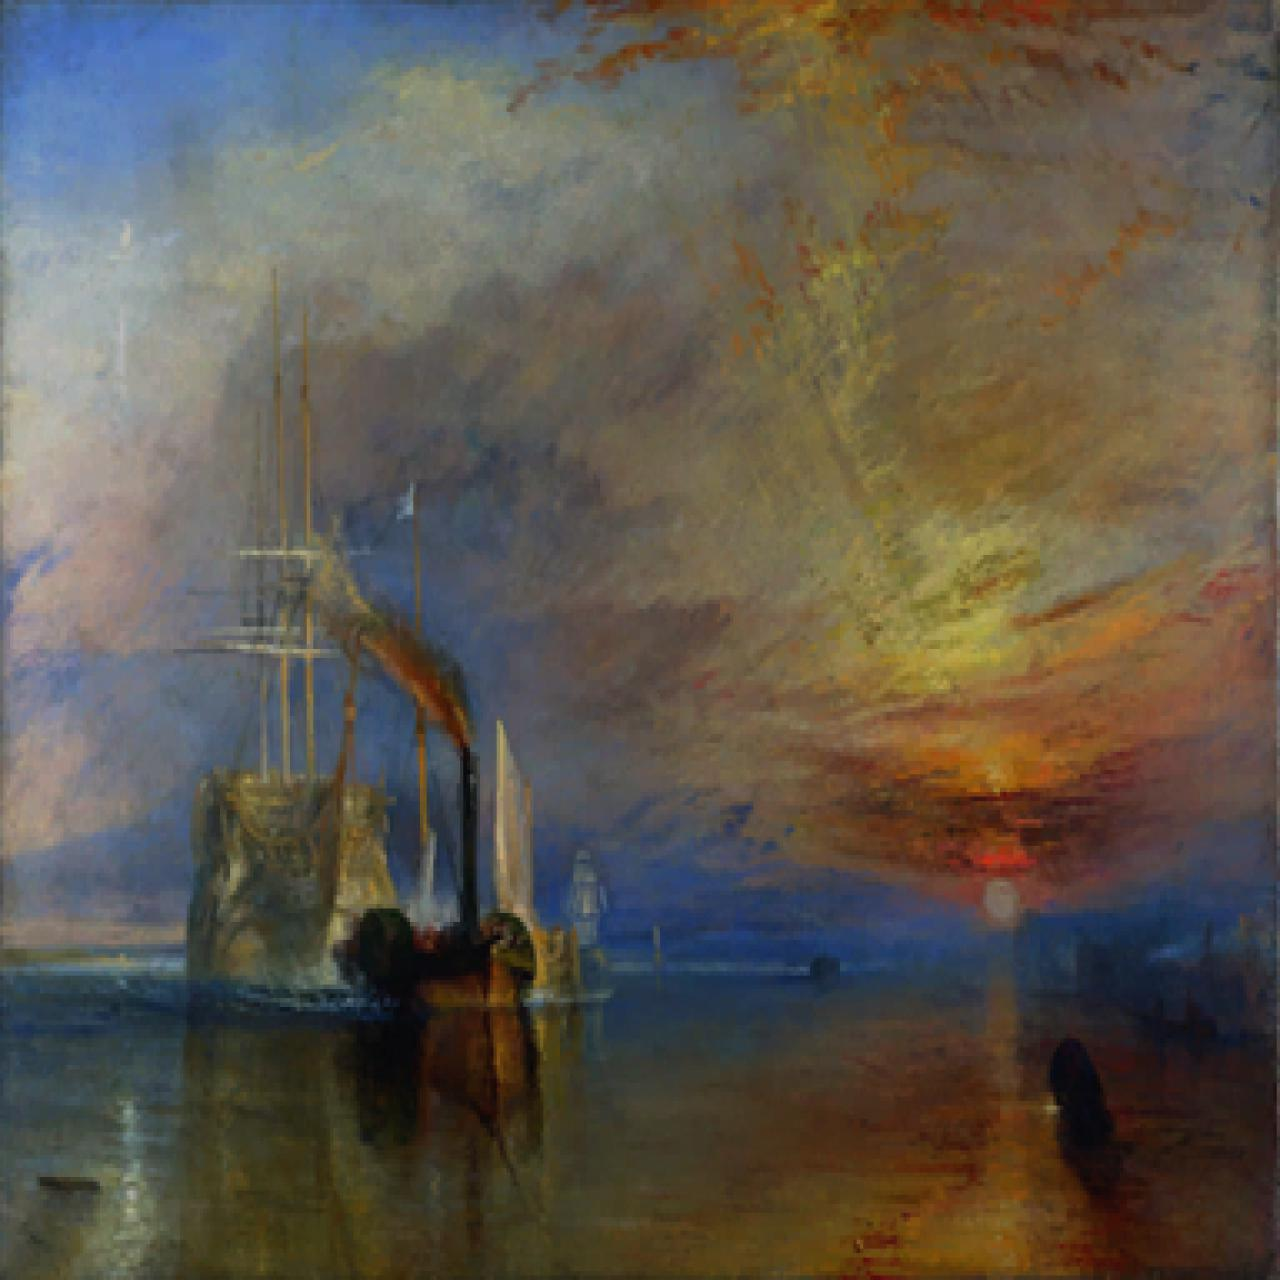FightingTemeraire: (1, 1, 1278, 1276)
